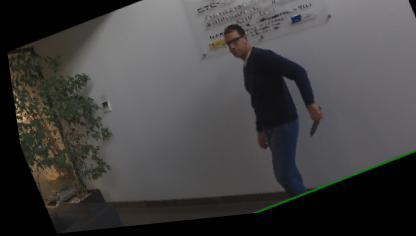knife: (294, 108, 329, 144)
